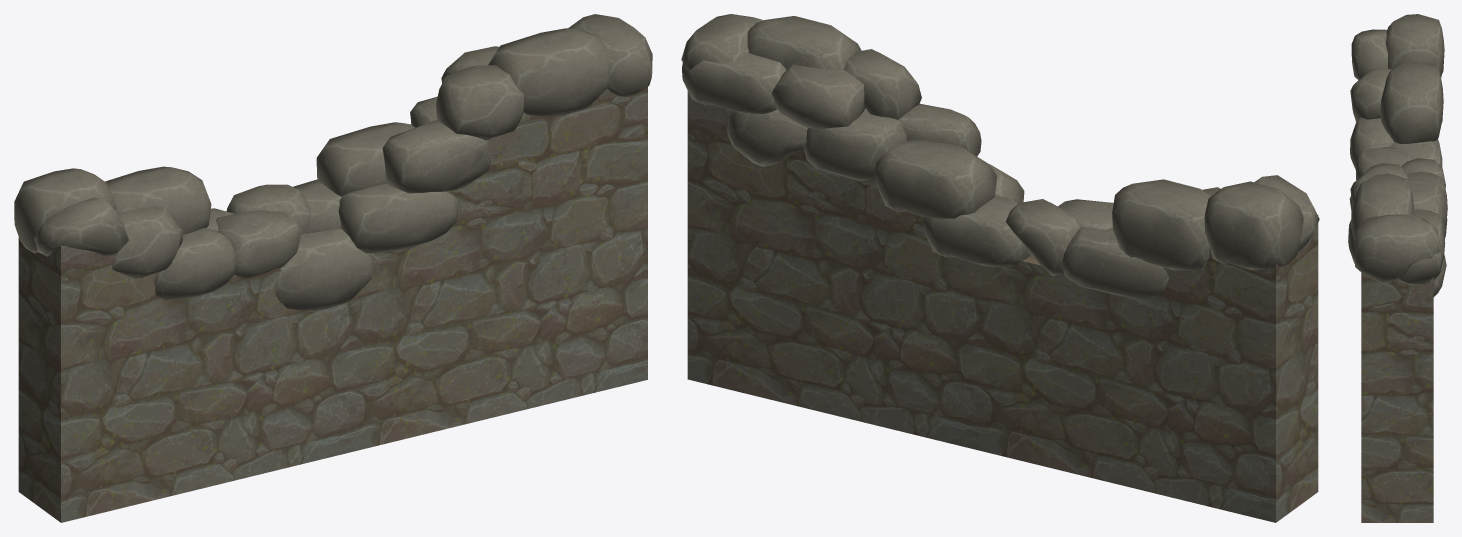
File: SM_FW01_Ruins_Int_Wall_A_4x2_Brkn_01.fbx
3 views of the same model, side by side, from view 1: azimuth 30°, elevation 25°; view 2: azimuth 150°, elevation 25°; view 3: azimuth 270°, elevation 25° (orthographic). The views are drawn at different scales.
Visible parts, largest first — view 1: SM_FW01_Ruins_Int_Wall_A_4x2_Brkn_01, SM_FW01_Ruins_Int_Wall_A_4x2_Brkn_01_LOD0; view 2: SM_FW01_Ruins_Int_Wall_A_4x2_Brkn_01, SM_FW01_Ruins_Int_Wall_A_4x2_Brkn_01_LOD0; view 3: SM_FW01_Ruins_Int_Wall_A_4x2_Brkn_01_LOD0, SM_FW01_Ruins_Int_Wall_A_4x2_Brkn_01.
Boxes of the visible parts, left/top/right/bottom form: SM_FW01_Ruins_Int_Wall_A_4x2_Brkn_01: left=18, top=87, right=647, bottom=522; SM_FW01_Ruins_Int_Wall_A_4x2_Brkn_01_LOD0: left=14, top=14, right=652, bottom=310; SM_FW01_Ruins_Int_Wall_A_4x2_Brkn_01: left=687, top=91, right=1318, bottom=522; SM_FW01_Ruins_Int_Wall_A_4x2_Brkn_01_LOD0: left=681, top=14, right=1319, bottom=299; SM_FW01_Ruins_Int_Wall_A_4x2_Brkn_01_LOD0: left=1348, top=14, right=1447, bottom=296; SM_FW01_Ruins_Int_Wall_A_4x2_Brkn_01: left=1361, top=272, right=1433, bottom=522.
Size of what is drawn, in the model's own units: 4.16 by 2.28 by 0.6888.
